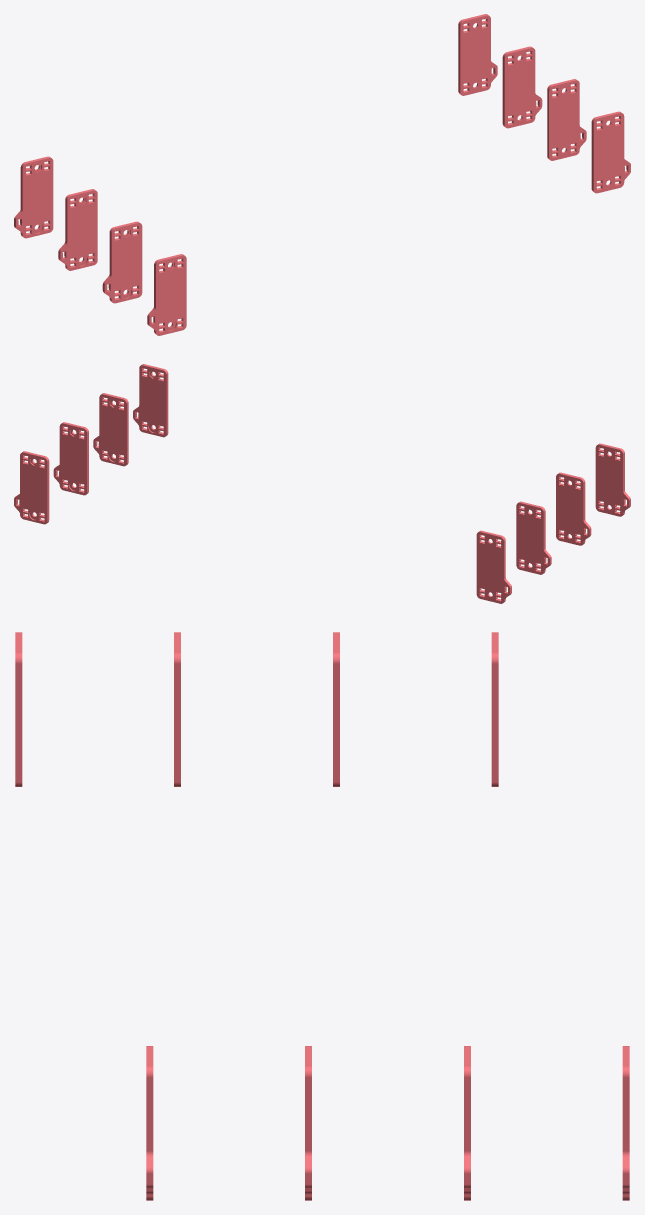
Rendered from BATTERY CRATE STACK V2__BATTERY CRATE L3__BATTERY MODULE V2 CLAMPS__SPINE ASM FRONT STOP__SPINE SIDE SIMPLE FRONT STOP A.glb.
3 renders of one model, top to bottom at view 1: azimuth 30°, elevation 25°; view 2: azimuth 150°, elevation 25°; view 3: azimuth 270°, elevation 25°, orthographic. The views are drawn at different scales.
Visible parts, largest first — view 1: SPINE SIDE SIMPLE FRONT STOP A 4, SPINE SIDE SIMPLE FRONT STOP A 6, SPINE SIDE SIMPLE FRONT STOP A 2, SPINE SIDE SIMPLE FRONT STOP A 8, SPINE SIDE SIMPLE FRONT STOP A 1, SPINE SIDE SIMPLE FRONT STOP A 5, SPINE SIDE SIMPLE FRONT STOP A 7, SPINE SIDE SIMPLE FRONT STOP A 3; view 2: SPINE SIDE SIMPLE FRONT STOP A 1, SPINE SIDE SIMPLE FRONT STOP A 2, SPINE SIDE SIMPLE FRONT STOP A 7, SPINE SIDE SIMPLE FRONT STOP A 8, SPINE SIDE SIMPLE FRONT STOP A 5, SPINE SIDE SIMPLE FRONT STOP A 3, SPINE SIDE SIMPLE FRONT STOP A 4, SPINE SIDE SIMPLE FRONT STOP A 6; view 3: SPINE SIDE SIMPLE FRONT STOP A 1, SPINE SIDE SIMPLE FRONT STOP A 2, SPINE SIDE SIMPLE FRONT STOP A 7, SPINE SIDE SIMPLE FRONT STOP A 8, SPINE SIDE SIMPLE FRONT STOP A 3, SPINE SIDE SIMPLE FRONT STOP A 4, SPINE SIDE SIMPLE FRONT STOP A 5, SPINE SIDE SIMPLE FRONT STOP A 6.
Part boxes in pixels (x1=…): SPINE SIDE SIMPLE FRONT STOP A 4: x1=102, y1=221, x2=142, y2=303; SPINE SIDE SIMPLE FRONT STOP A 6: x1=502, y1=46, x2=542, y2=128; SPINE SIDE SIMPLE FRONT STOP A 2: x1=591, y1=111, x2=630, y2=193; SPINE SIDE SIMPLE FRONT STOP A 8: x1=14, y1=156, x2=53, y2=238; SPINE SIDE SIMPLE FRONT STOP A 1: x1=147, y1=254, x2=186, y2=335; SPINE SIDE SIMPLE FRONT STOP A 5: x1=58, y1=189, x2=97, y2=270; SPINE SIDE SIMPLE FRONT STOP A 7: x1=458, y1=14, x2=497, y2=95; SPINE SIDE SIMPLE FRONT STOP A 3: x1=547, y1=79, x2=586, y2=160; SPINE SIDE SIMPLE FRONT STOP A 1: x1=595, y1=443, x2=630, y2=516; SPINE SIDE SIMPLE FRONT STOP A 2: x1=133, y1=364, x2=168, y2=437; SPINE SIDE SIMPLE FRONT STOP A 7: x1=14, y1=451, x2=49, y2=524; SPINE SIDE SIMPLE FRONT STOP A 8: x1=476, y1=530, x2=511, y2=603; SPINE SIDE SIMPLE FRONT STOP A 5: x1=516, y1=501, x2=551, y2=574; SPINE SIDE SIMPLE FRONT STOP A 3: x1=93, y1=393, x2=128, y2=466; SPINE SIDE SIMPLE FRONT STOP A 4: x1=556, y1=472, x2=591, y2=545; SPINE SIDE SIMPLE FRONT STOP A 6: x1=53, y1=422, x2=88, y2=495; SPINE SIDE SIMPLE FRONT STOP A 1: x1=15, y1=632, x2=22, y2=786; SPINE SIDE SIMPLE FRONT STOP A 2: x1=146, y1=1046, x2=153, y2=1200; SPINE SIDE SIMPLE FRONT STOP A 7: x1=622, y1=1046, x2=629, y2=1200; SPINE SIDE SIMPLE FRONT STOP A 8: x1=491, y1=632, x2=498, y2=786; SPINE SIDE SIMPLE FRONT STOP A 3: x1=305, y1=1046, x2=311, y2=1200; SPINE SIDE SIMPLE FRONT STOP A 4: x1=174, y1=632, x2=180, y2=786; SPINE SIDE SIMPLE FRONT STOP A 5: x1=333, y1=632, x2=339, y2=786; SPINE SIDE SIMPLE FRONT STOP A 6: x1=464, y1=1046, x2=470, y2=1200.
Size of the model in its own units: 0.9672 by 0.1333 by 0.5552.
